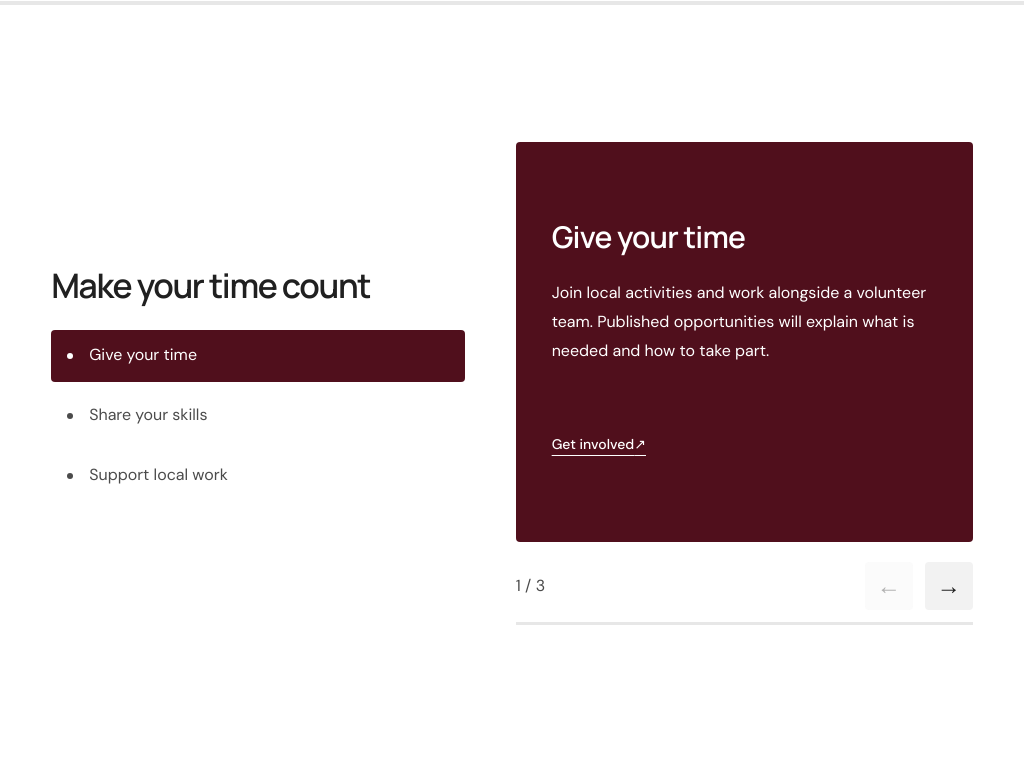
Test case: participation shows one panel and changes through accessible step controls
(page scrolled)
Expected: the text "Bring your practical experience" is not shown
Click the button "Share your skills" at (148, 415), box [51, 390, 465, 442]
(page scrolled)
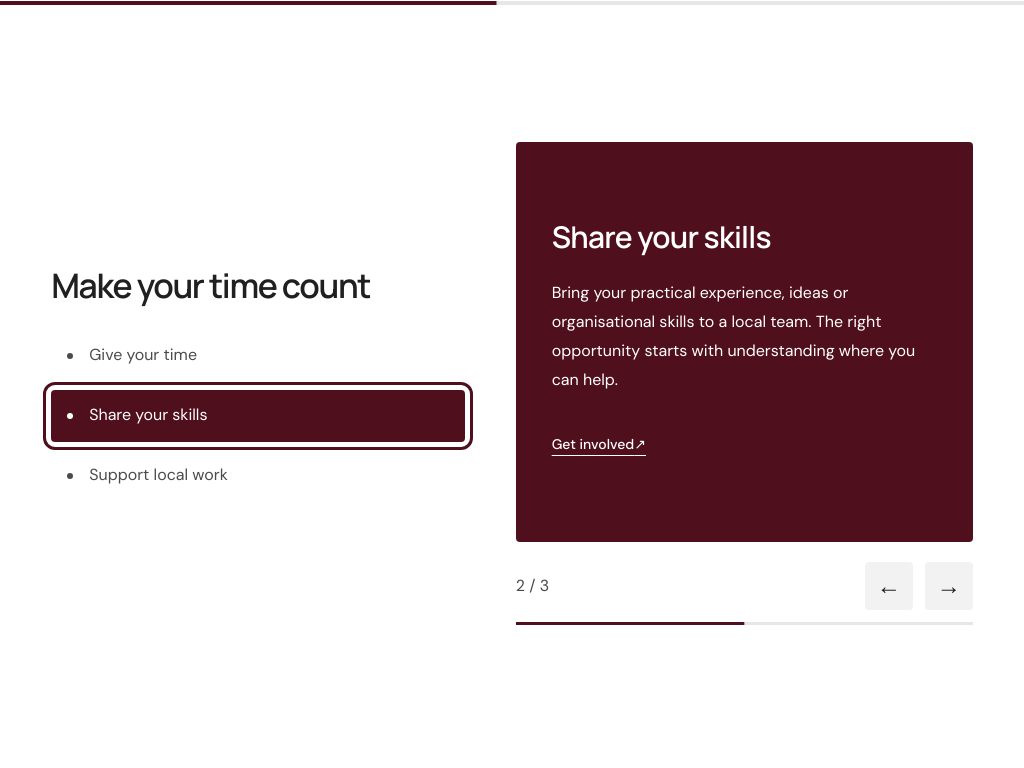
Expected: the text "Bring your practical experience" is shown, [552, 283, 915, 390]
Expected: the text "Join local activities and work alongside" is gone
Click the button "Support local work" at (158, 475), box [51, 450, 465, 502]
(page scrolled)
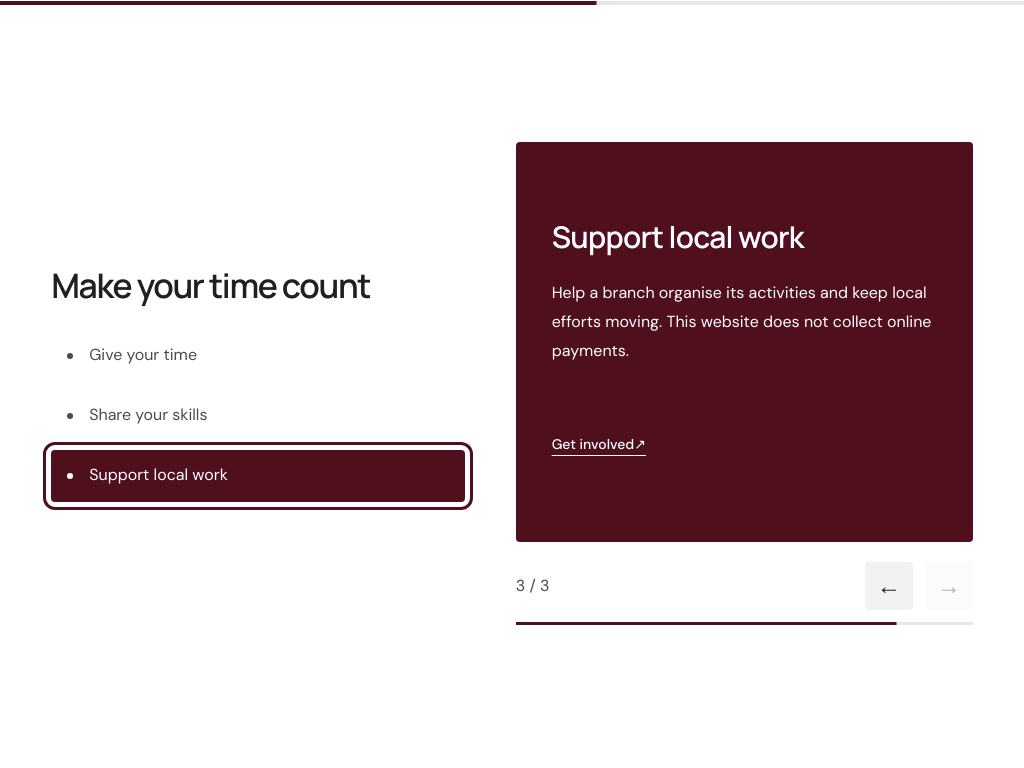
Expected: the text "This website does not collect online payments" is shown, [552, 283, 932, 361]
